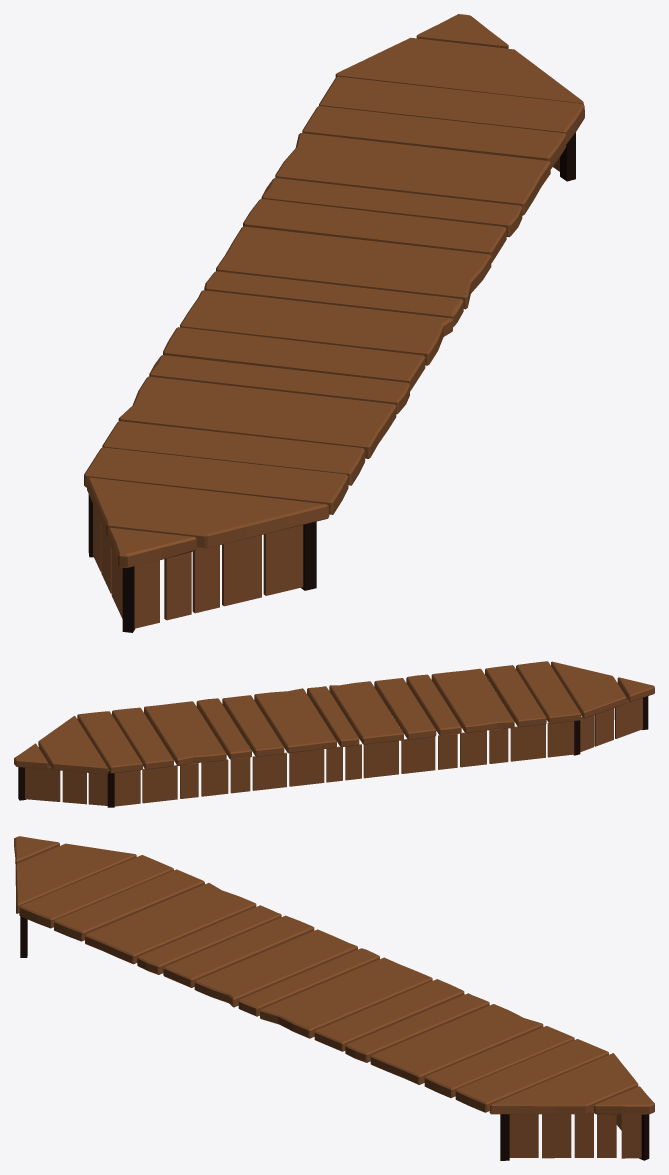
File: ww_small_foundation_c.glb
The picture shows the model from 3 angles, top to bottom: view 1: azimuth 30°, elevation 25°; view 2: azimuth 150°, elevation 25°; view 3: azimuth 270°, elevation 25°; orthographic projection. The views are drawn at different scales.
Parts seen in each view (by area): view 1: Small_Foundation_C; view 2: Small_Foundation_C; view 3: Small_Foundation_C.
Boxes of the visible parts, x1,y1,x2,y2 form: Small_Foundation_C: (84, 14, 584, 632); Small_Foundation_C: (14, 661, 654, 807); Small_Foundation_C: (14, 836, 654, 1160).
Size of the model in its own units: 7.04 by 0.6922 by 7.06.
